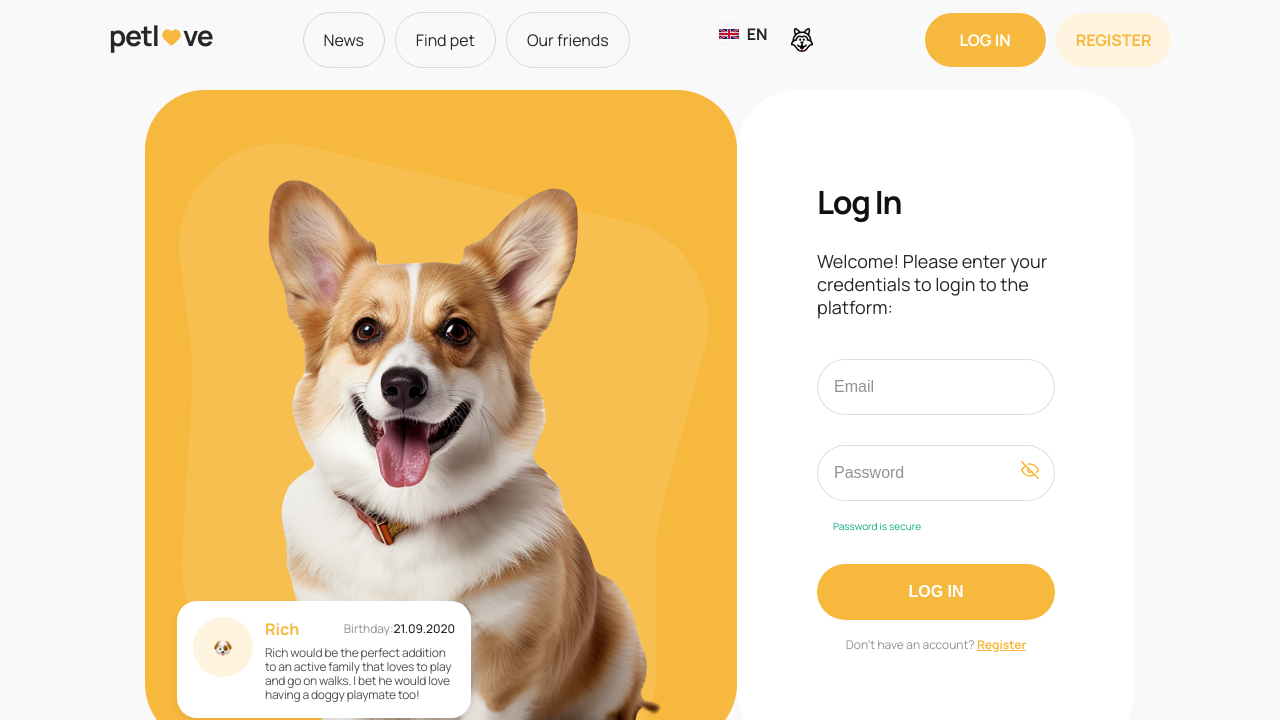
it: Валідація полів › Показує помилку, якщо поле Email порожнє
Click the button "Log In" at (936, 592), box [817, 564, 1055, 620]
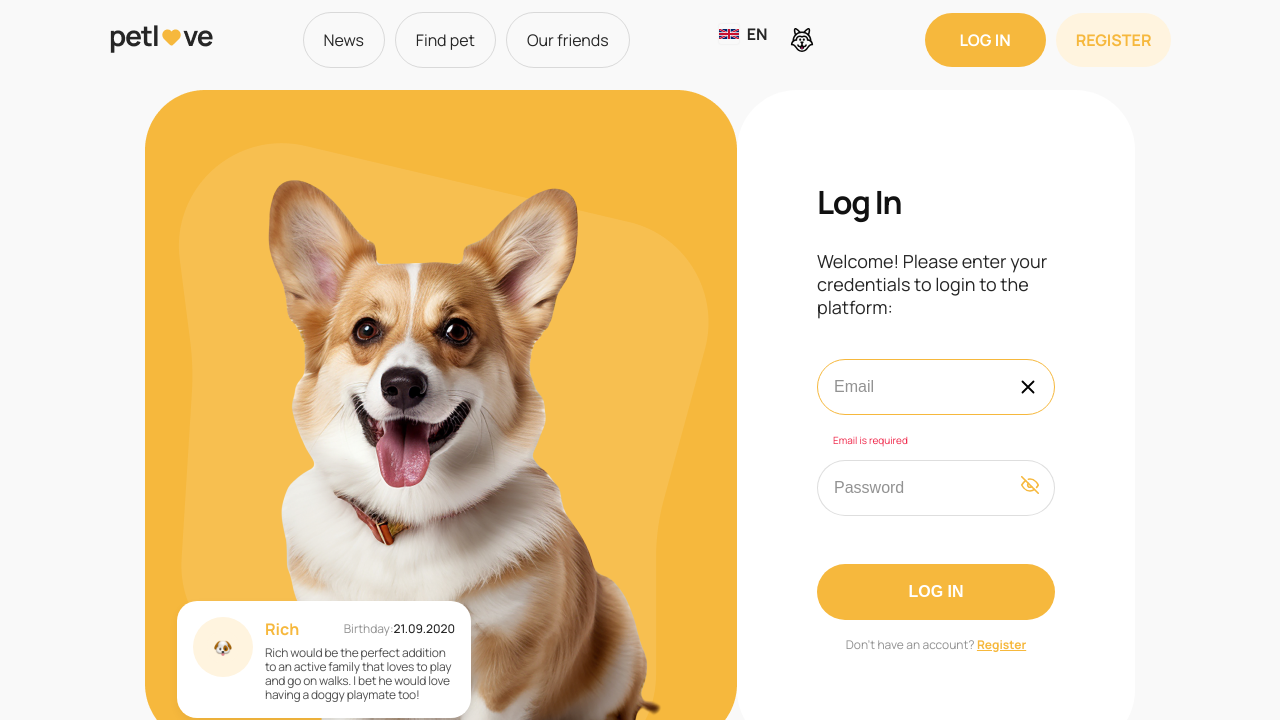
Check: the text "Email is required" is shown, box [833, 433, 908, 447]
